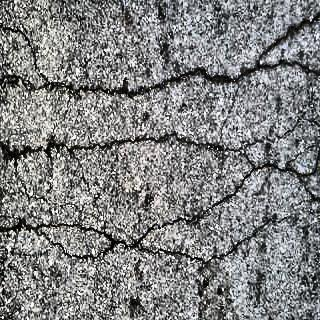alligator-crack: (1, 12, 320, 269)
